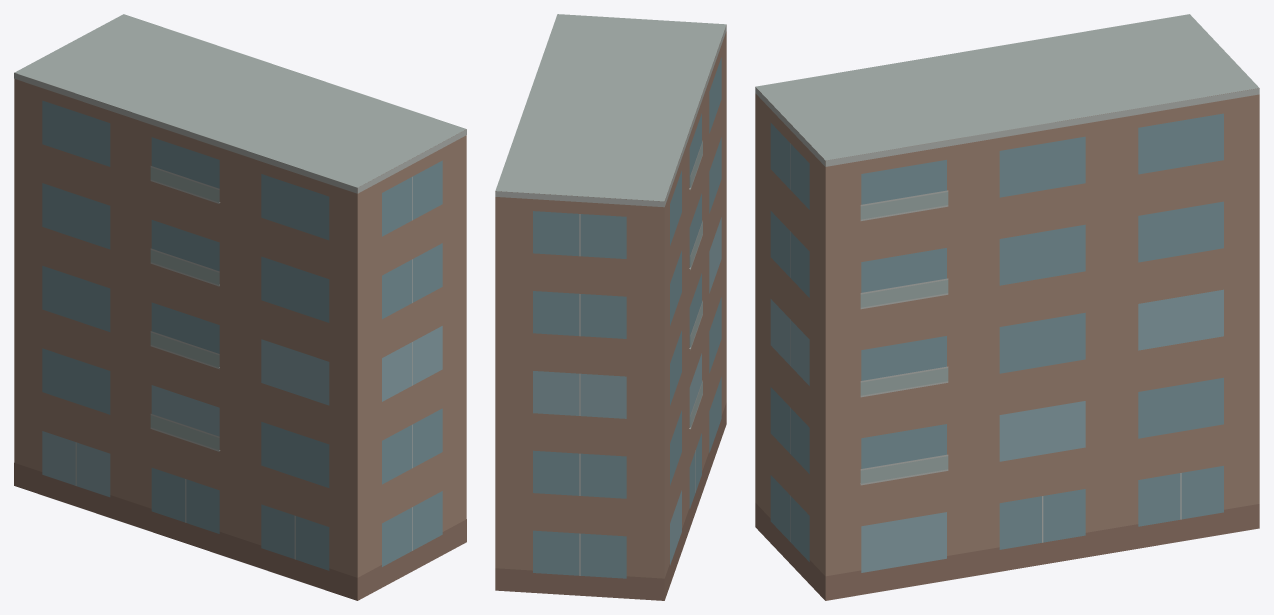
Rendered from survey-upis-32983670.glb.
3 renders of one model, left to right at view 1: azimuth 30°, elevation 25°; view 2: azimuth 150°, elevation 25°; view 3: azimuth 270°, elevation 25°, orthographic. The views are drawn at different scales.
Visible parts, largest first — view 1: survey-upis-32983670.tmp; view 2: survey-upis-32983670.tmp; view 3: survey-upis-32983670.tmp.
Boxes of the visible parts, left/top/right/bottom form: survey-upis-32983670.tmp: left=14, top=14, right=466, bottom=600; survey-upis-32983670.tmp: left=495, top=14, right=726, bottom=600; survey-upis-32983670.tmp: left=755, top=14, right=1259, bottom=600.
Size of the model in its own units: 12.01 by 16.81 by 17.46.
